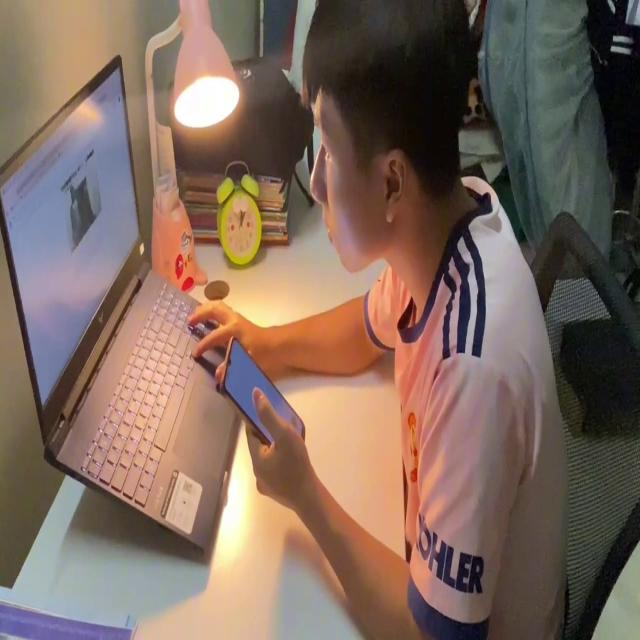laptop: (0, 45, 250, 560)
phone: (218, 327, 309, 466)
student: (188, 0, 574, 640)
